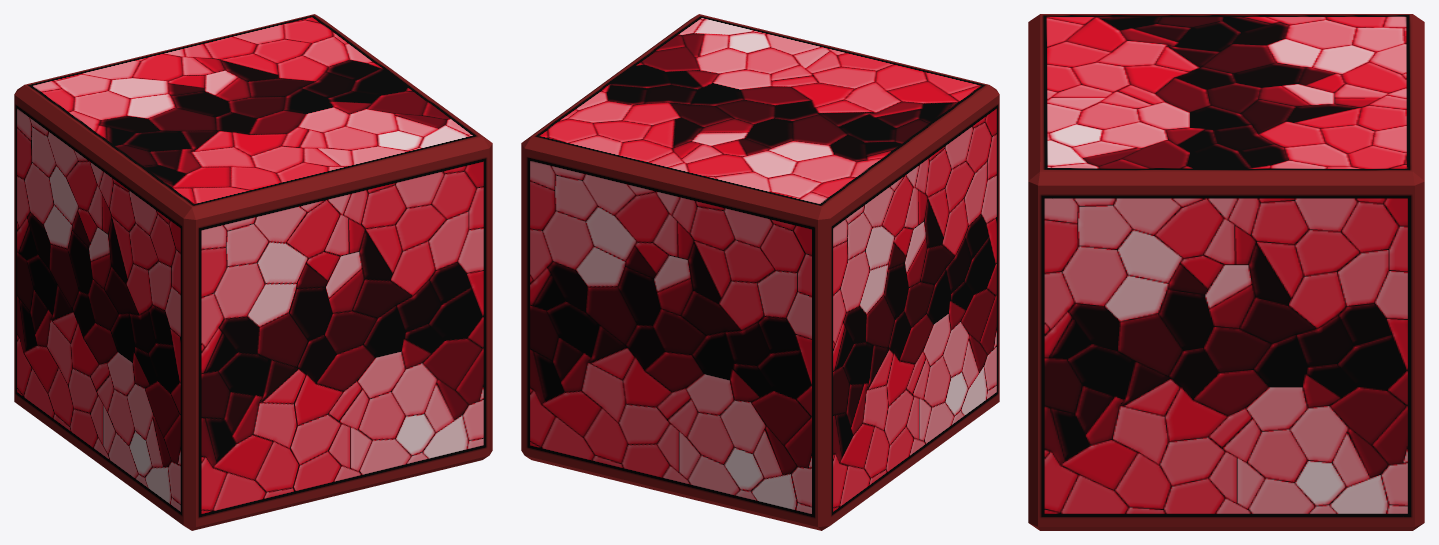
File: switch_block.obj
3 renders of one model, left to right at view 1: azimuth 30°, elevation 25°; view 2: azimuth 150°, elevation 25°; view 3: azimuth 270°, elevation 25°, orthographic. The views are drawn at different scales.
Parts seen in each view (by area): view 1: Switch_Block; view 2: Switch_Block; view 3: Switch_Block.
Part boxes in pixels (bbox=[...]): Switch_Block: bbox=[14, 14, 492, 530]; Switch_Block: bbox=[521, 14, 999, 530]; Switch_Block: bbox=[1028, 14, 1424, 530].
Size of the model in its own units: 2 by 2 by 2.
1 material, 1 textured.
